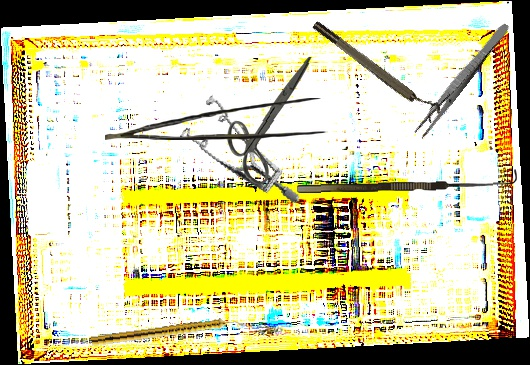Dressing Forceps: (412, 19, 512, 141)
Fixation Ring: (310, 13, 444, 124)
Handpiece: (90, 315, 242, 350)
Hook Surgical: (296, 169, 518, 193)
Iris Scissors: (225, 56, 315, 185)
Speculum: (170, 78, 302, 230)
Tissue Forceps: (105, 98, 328, 140)
